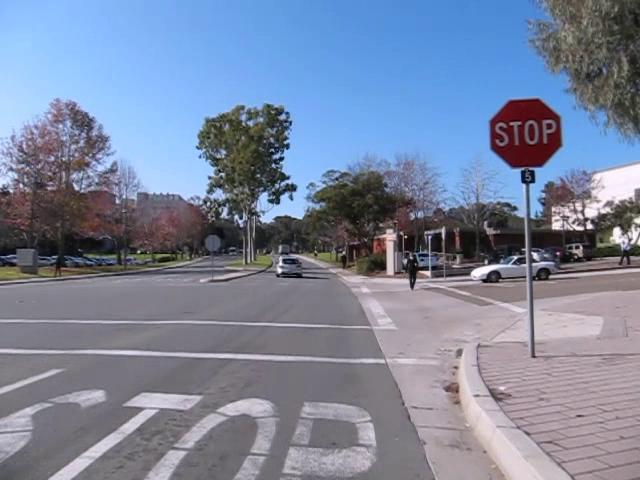stop: (488, 97, 563, 169)
